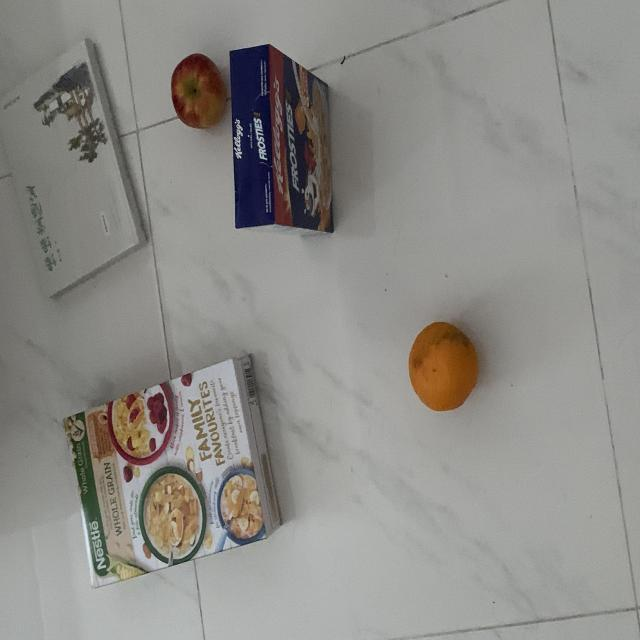Apple: (168, 49, 230, 132)
Book: (0, 39, 152, 308)
Cerealbox: (62, 348, 284, 594), (226, 40, 338, 238)
Orange: (408, 318, 482, 414)
